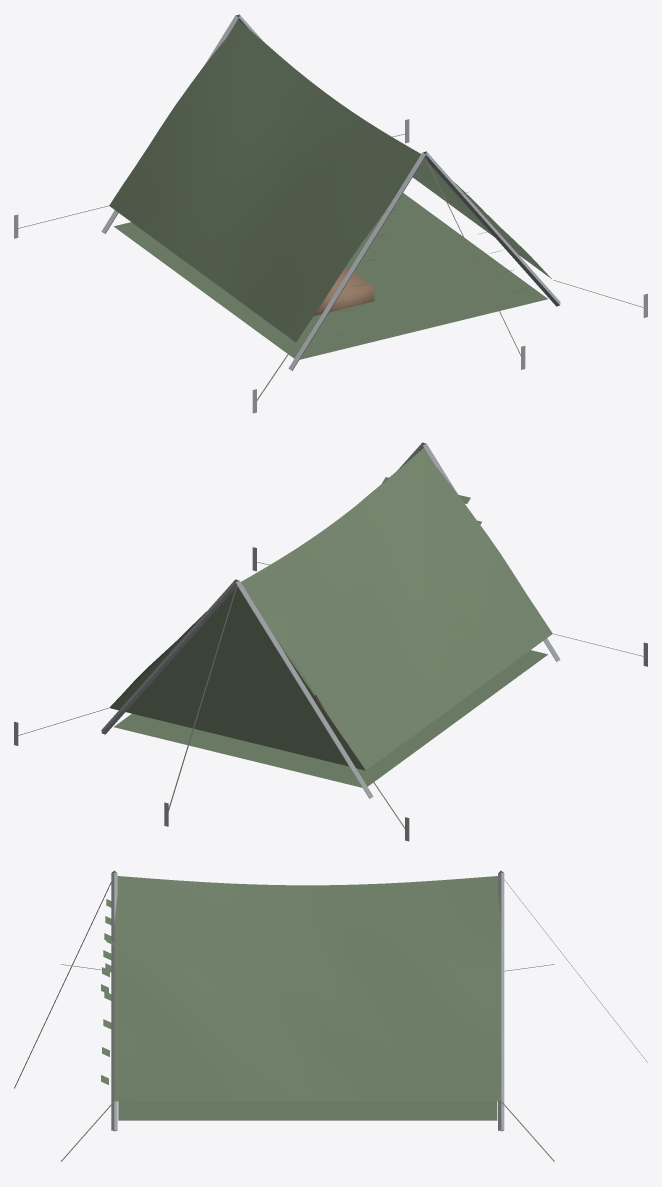
The model's file is tent_weathered.glb.
The picture shows the model from 3 angles, top to bottom: view 1: azimuth 30°, elevation 25°; view 2: azimuth 150°, elevation 25°; view 3: azimuth 270°, elevation 25°; orthographic projection. The views are drawn at different scales.
Visible parts, largest first — view 1: WeatheredTent; view 2: WeatheredTent; view 3: WeatheredTent.
Boxes of the visible parts, <box> form: WeatheredTent: <box>14,14,647,413</box>; WeatheredTent: <box>14,442,647,841</box>; WeatheredTent: <box>14,870,647,1161</box>.
Bounding box in the file's own units: 3.54 × 1.66 × 4.75.
